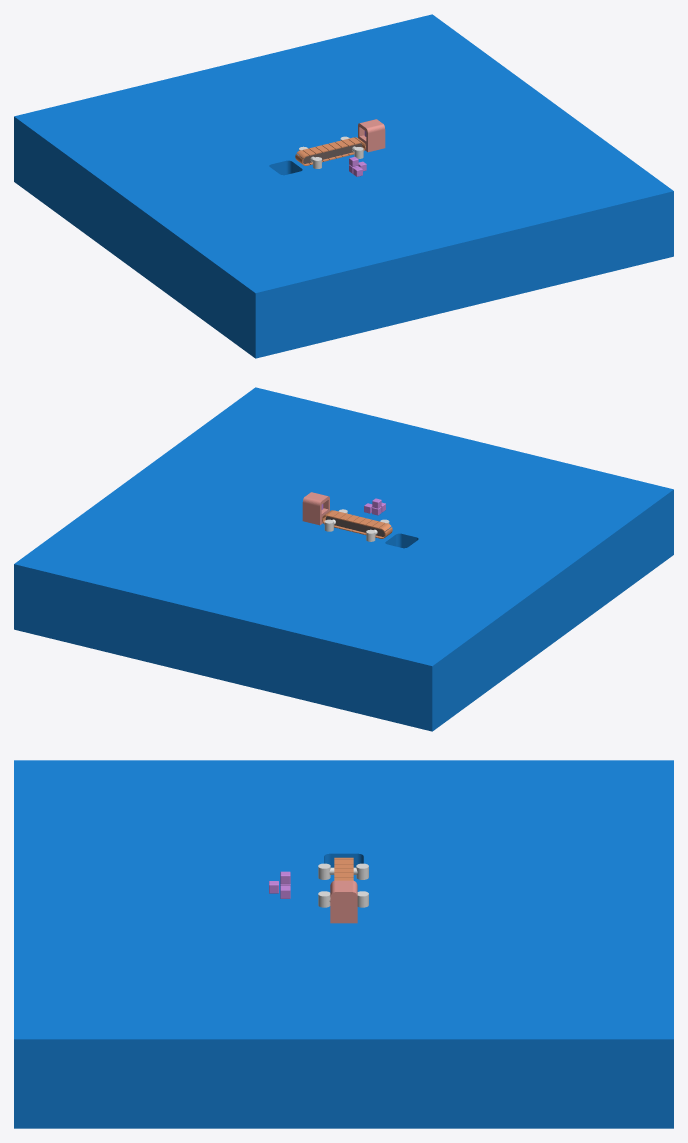
The model's file is conveyer-belt-transformed.glb.
3 views of the same model, one above another, from view 1: azimuth 30°, elevation 25°; view 2: azimuth 150°, elevation 25°; view 3: azimuth 270°, elevation 25° (orthographic). The views are drawn at different scales.
Visible parts, largest first — view 1: Plane.002, Cube.001, Plane.001; view 2: Plane.002, Cube.001, Plane.001; view 3: Plane.002, Cube.001.
Part boxes in pixels (left/top/right/bottom): Plane.002: left=14, top=14, right=673, bottom=358; Cube.001: left=358, top=119, right=385, bottom=152; Plane.001: left=295, top=137, right=365, bottom=165; Plane.002: left=14, top=387, right=673, bottom=731; Cube.001: left=302, top=492, right=329, bottom=525; Plane.001: left=322, top=510, right=392, bottom=538; Plane.002: left=14, top=760, right=673, bottom=1128; Cube.001: left=330, top=880, right=357, bottom=923.
Bounding box in the file's own units: 48.51 × 9.83 × 48.51.
